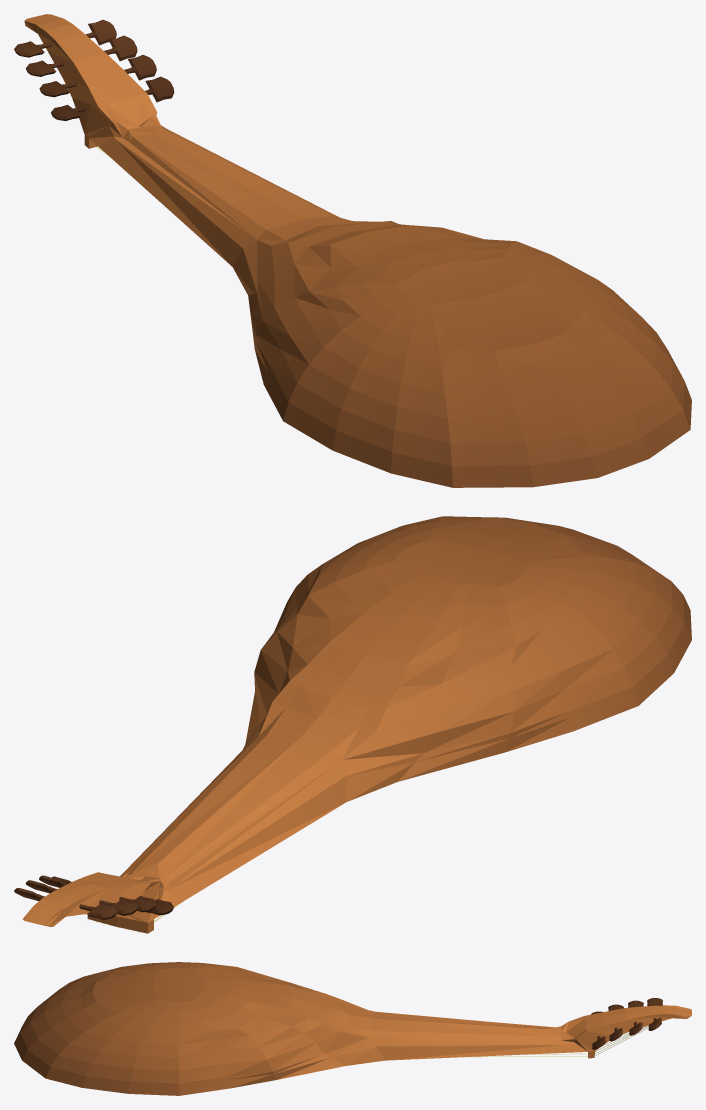
File: Guitarra morisca.fbx
The picture shows the model from 3 angles, top to bottom: view 1: azimuth 30°, elevation 25°; view 2: azimuth 150°, elevation 25°; view 3: azimuth 270°, elevation 25°; orthographic projection. The views are drawn at different scales.
Parts seen in each view (by area): view 1: pPlane19; view 2: pPlane19; view 3: pPlane19.
Part boxes in pixels (x1,y1,x2,y2): pPlane19: [14, 14, 691, 487]; pPlane19: [14, 516, 691, 933]; pPlane19: [14, 962, 691, 1095].
Size of the model in its own units: 0.8669 by 0.256 by 2.37.
Materials: 1 (1 with a texture image).
